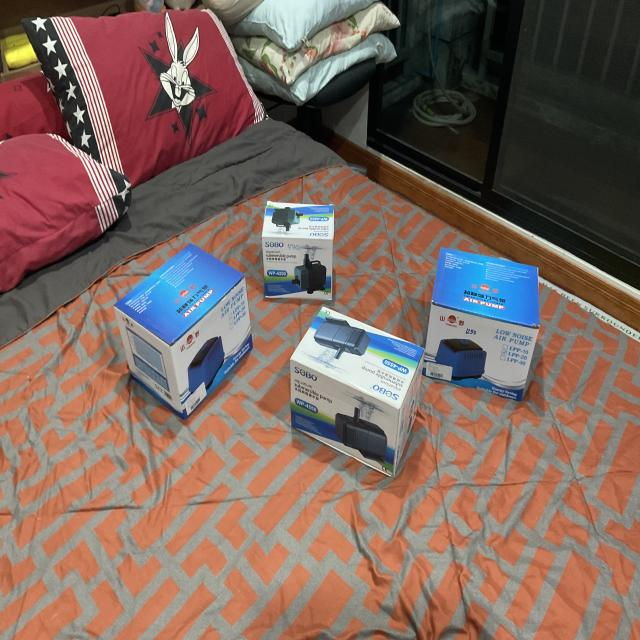SOBO_WP_4200: (282, 292, 425, 486), (250, 185, 348, 314)
YAMANO_LPP_20: (102, 232, 258, 451), (414, 248, 568, 412)
